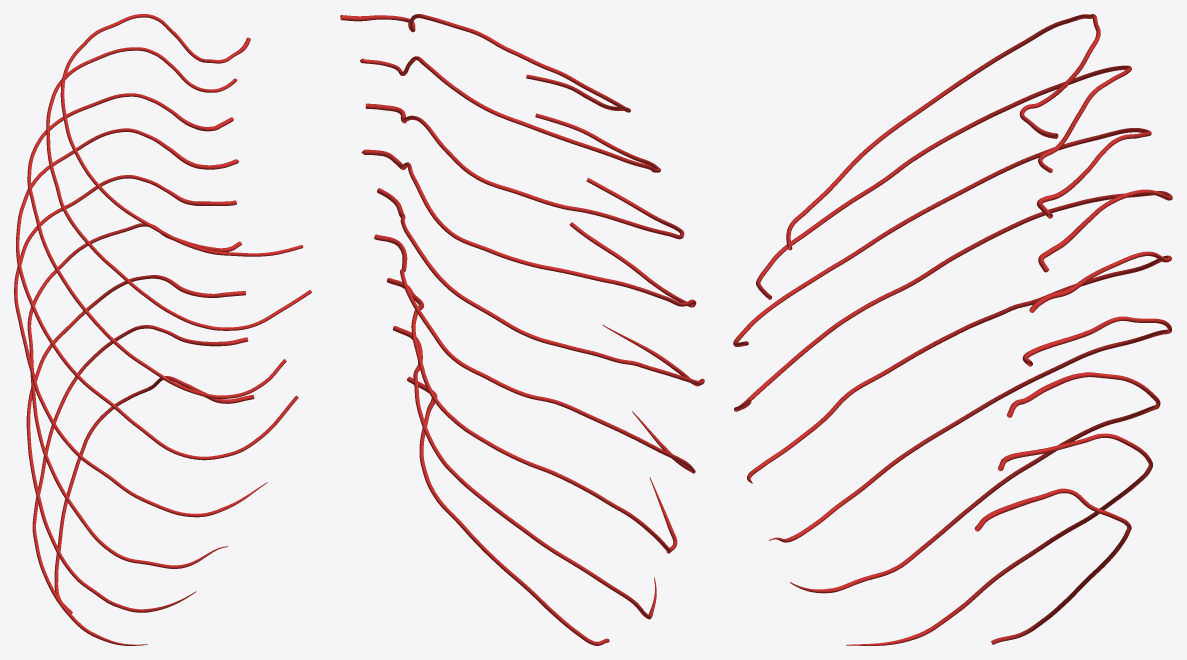
Rendered from circulatorio-posterior-intercostal-arteries-r.glb.
3 renders of one model, left to right at view 1: azimuth 30°, elevation 25°; view 2: azimuth 150°, elevation 25°; view 3: azimuth 270°, elevation 25°, orthographic. The views are drawn at different scales.
Visible parts, largest first — view 1: Posterior intercostal arteries.r; view 2: Posterior intercostal arteries.r; view 3: Posterior intercostal arteries.r.
Boxes of the visible parts, box(x1,y1,x2,y2) form: Posterior intercostal arteries.r: box(14, 14, 311, 645); Posterior intercostal arteries.r: box(340, 14, 704, 645); Posterior intercostal arteries.r: box(733, 14, 1172, 645).
Bounding box in the file's own units: 0.1598 × 0.3336 × 0.1963.
